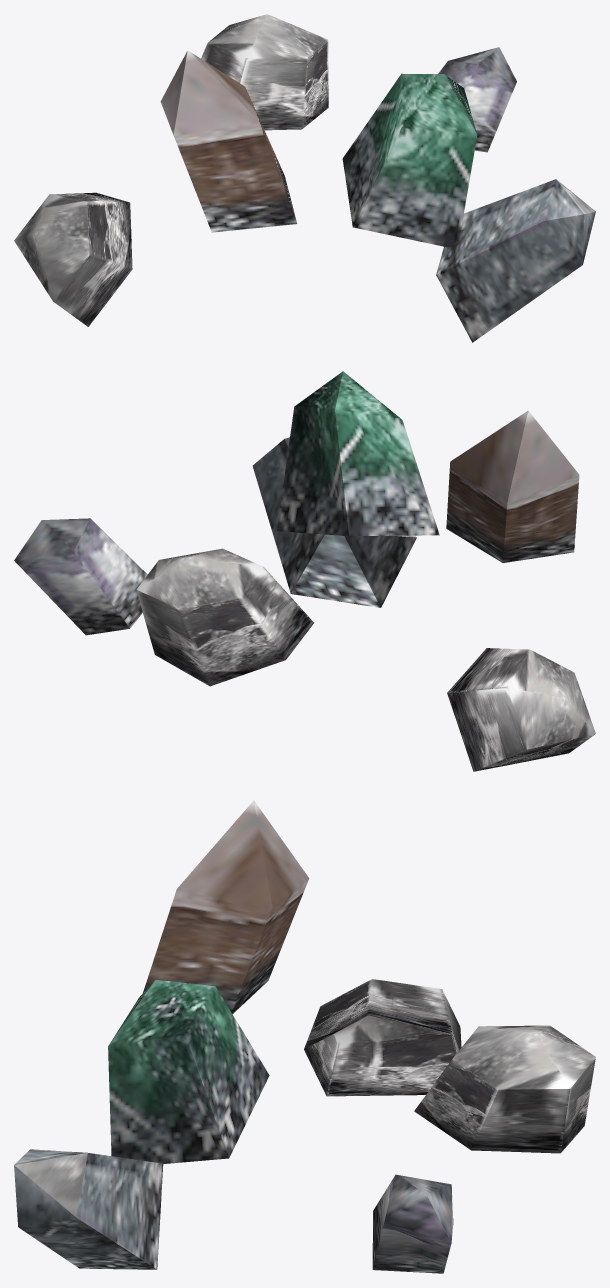
The model's file is boulder4.obj.
3 renders of one model, top to bottom at view 1: azimuth 30°, elevation 25°; view 2: azimuth 150°, elevation 25°; view 3: azimuth 270°, elevation 25°, orthographic. The views are drawn at different scales.
Visible parts, largest first — view 1: em29-0001-1; view 2: em29-0001-1; view 3: em29-0001-1.
Part boxes in pixels (left/top/right/bottom): em29-0001-1: left=14, top=14, right=595, bottom=342; em29-0001-1: left=14, top=371, right=595, bottom=771; em29-0001-1: left=14, top=800, right=595, bottom=1273.
Size of the model in its own units: 188 by 105 by 160.
1 material, 1 textured.
